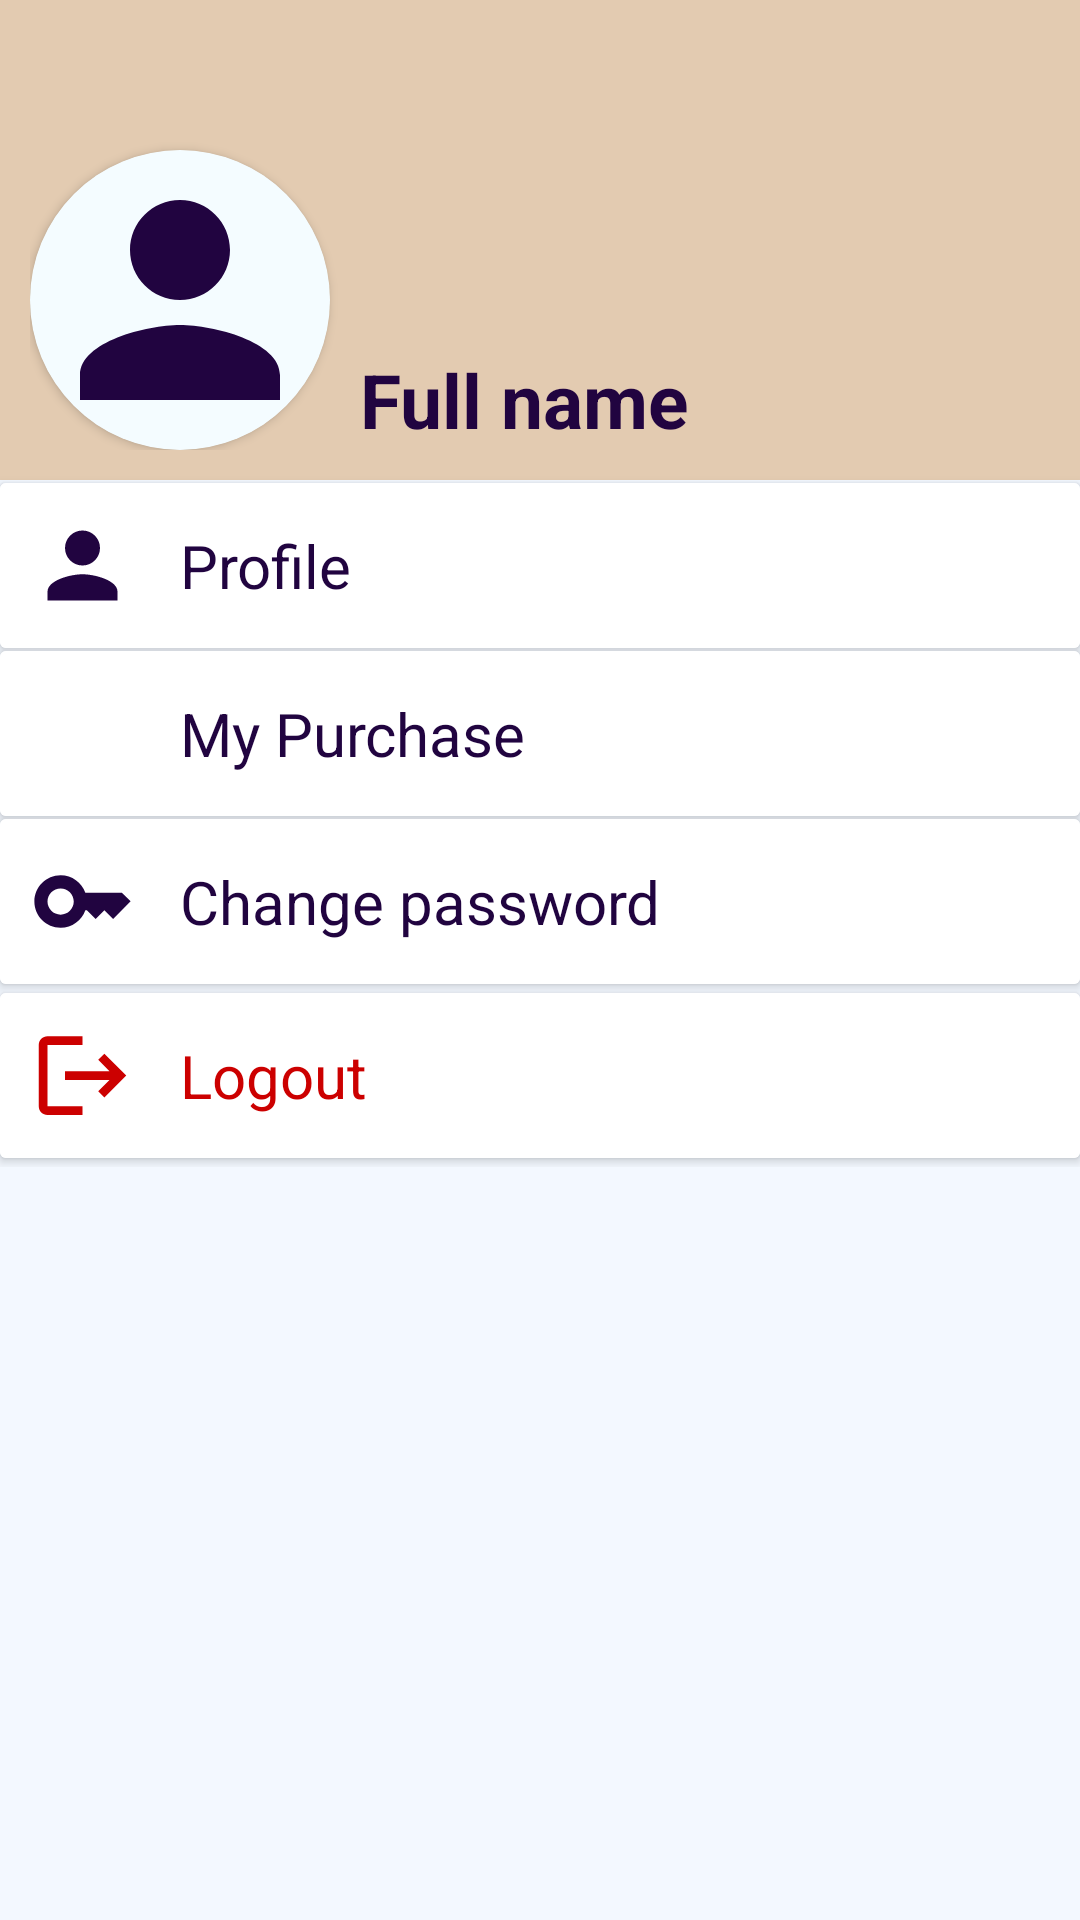

Where icons sit on this 1080 x 1920 app screen, as bbox=(x1, y1, x2, y2):
key: bbox=(34, 875, 131, 928)
person: bbox=(30, 150, 330, 450), bbox=(47, 530, 118, 601)
